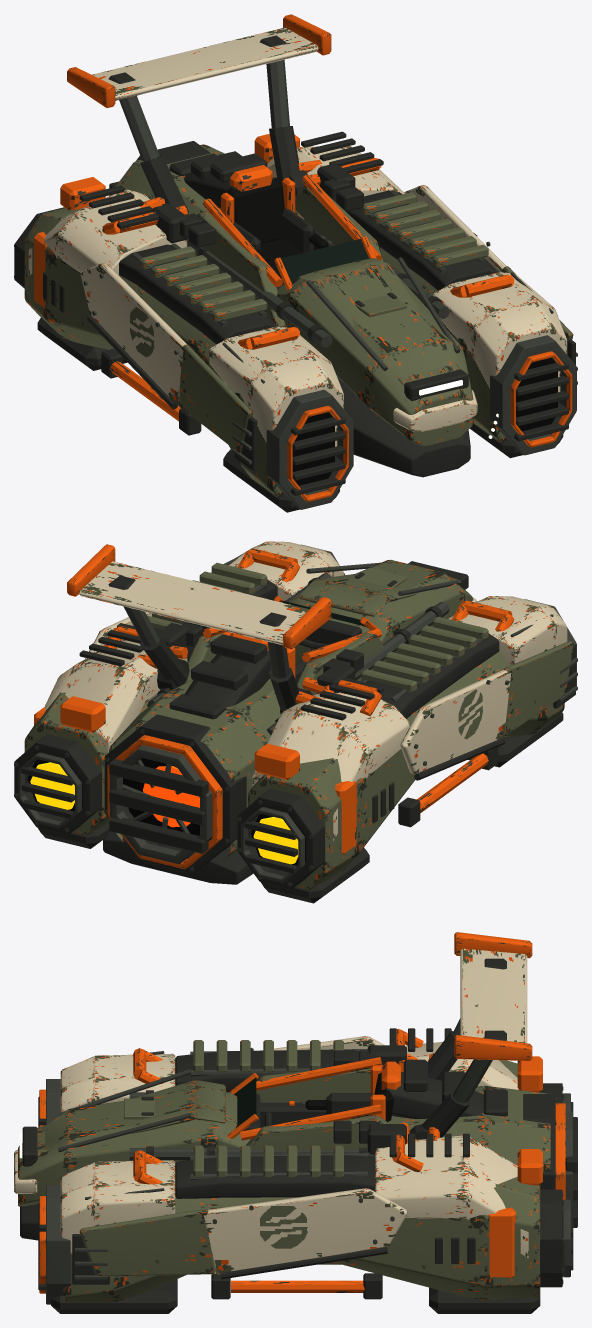
Rendered from oliva-037.glb.
The picture shows the model from 3 angles, top to bottom: view 1: azimuth 30°, elevation 25°; view 2: azimuth 150°, elevation 25°; view 3: azimuth 270°, elevation 25°; orthographic projection. The views are drawn at different scales.
Parts seen in each view (by area): view 1: Carenado central proa, Armadura marfil delantera, Armadura marfil delantera.001, Pod lateral chasis, Alerón transversal marfil, Panel lateral marfil, Armadura marfil trasera, Quilla estructural, Placa superior inclinada del morro, Panel lateral oliva proa, Lomo mecánico del pod, Toma frontal carcasa (+58 smaller); view 2: Pod lateral chasis, Alerón transversal marfil, Armadura marfil trasera, Panel lateral marfil, Cuerpo reactor central, Armadura marfil trasera.001, Tobera central estructura, Carenado central proa, Armadura marfil delantera, Panel lateral oliva proa, Tobera lateral carcasa.001, Tobera lateral carcasa (+61 smaller); view 3: Pod lateral chasis.001, Panel lateral marfil.001, Carenado central proa, Armadura marfil trasera.001, Panel lateral oliva proa.001, Armadura marfil delantera.001, Lomo mecánico del pod.001, Alerón transversal marfil, Cuerpo reactor central, Armadura marfil delantera, Placa superior inclinada del morro, Lomo mecánico del pod (+44 smaller).
Boxes of the visible parts, x1,y1,x2,y2 form: Carenado central proa: [276, 275, 473, 446]; Armadura marfil delantera: [209, 326, 343, 446]; Armadura marfil delantera.001: [432, 272, 567, 392]; Pod lateral chasis: [24, 208, 335, 496]; Alerón transversal marfil: [92, 27, 318, 100]; Panel lateral marfil: [80, 262, 186, 406]; Armadura marfil trasera: [28, 189, 187, 275]; Quilla estructural: [337, 376, 470, 477]; Placa superior inclinada del morro: [298, 258, 460, 385]; Panel lateral oliva proa: [179, 344, 252, 452]; Lomo mecánico del pod: [119, 244, 277, 344]; Toma frontal carcasa: [266, 389, 353, 509]; Pod lateral chasis: [248, 649, 564, 889]; Alerón transversal marfil: [79, 561, 308, 645]; Armadura marfil trasera: [252, 692, 410, 840]; Panel lateral marfil: [400, 669, 511, 774]; Cuerpo reactor central: [109, 678, 280, 864]; Armadura marfil trasera.001: [45, 639, 187, 752]; Tobera central estructura: [104, 714, 246, 873]; Carenado central proa: [289, 559, 473, 663]; Armadura marfil delantera: [448, 596, 567, 665]; Panel lateral oliva proa: [503, 641, 573, 736]; Tobera lateral carcasa.001: [14, 734, 101, 834]; Tobera lateral carcasa: [237, 789, 324, 889]; Pod lateral chasis.001: [63, 1176, 540, 1302]; Panel lateral marfil.001: [204, 1188, 407, 1274]; Carenado central proa: [18, 1091, 250, 1206]; Armadura marfil trasera.001: [375, 1135, 528, 1258]; Panel lateral oliva proa.001: [79, 1209, 215, 1276]; Armadura marfil delantera.001: [60, 1160, 175, 1254]; Lomo mecánico del pod.001: [175, 1155, 375, 1198]; Alerón transversal marfil: [460, 948, 527, 1043]; Cuerpo reactor central: [387, 1085, 550, 1172]; Armadura marfil delantera: [60, 1053, 175, 1112]; Placa superior inclinada del morro: [37, 1080, 225, 1157]; Lomo mecánico del pod: [175, 1049, 358, 1092].
Bounding box in the file's own units: 3.71 × 2.88 × 5.56.
Materials: 11 (3 with a texture image).
